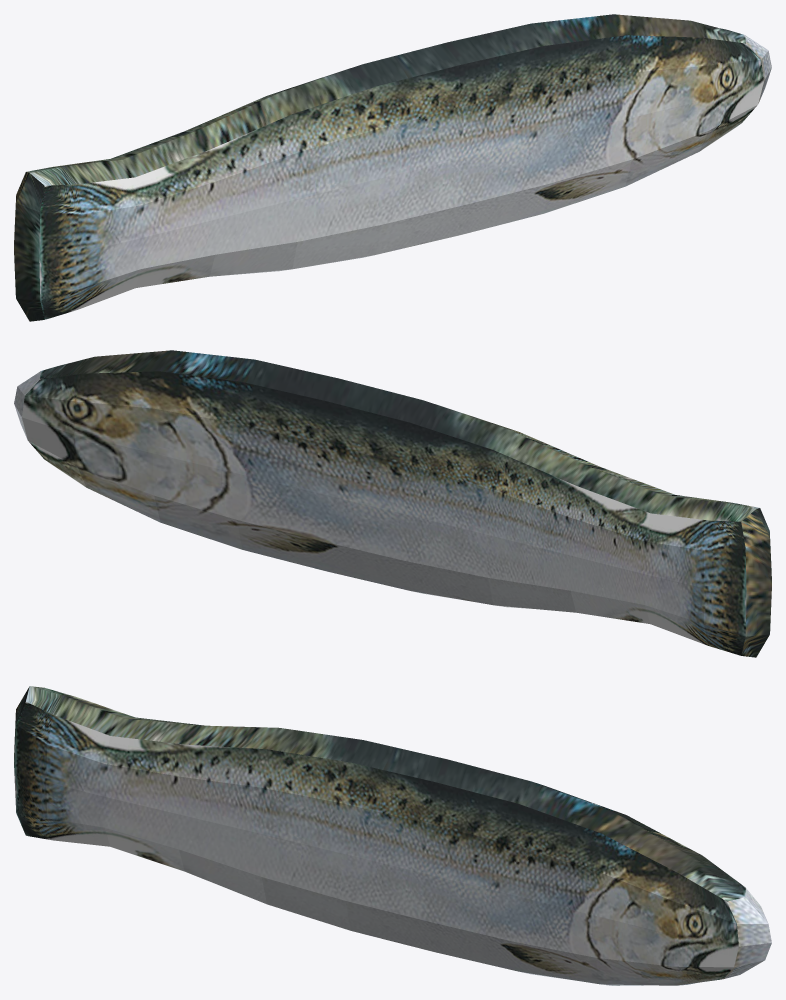
The model's file is salmon.fbx.
3 renders of one model, top to bottom at view 1: azimuth 30°, elevation 25°; view 2: azimuth 150°, elevation 25°; view 3: azimuth 330°, elevation 25°, orthographic.
Parts seen in each view (by area): view 1: Cube; view 2: Cube; view 3: Cube.
Boxes of the visible parts, x1,y1,x2,y2 form: Cube: (14, 14, 771, 321); Cube: (14, 350, 771, 657); Cube: (14, 686, 771, 985).
Size of the model in its own units: 379 by 93.55 by 32.75.
Materials: 1 (1 with a texture image).
